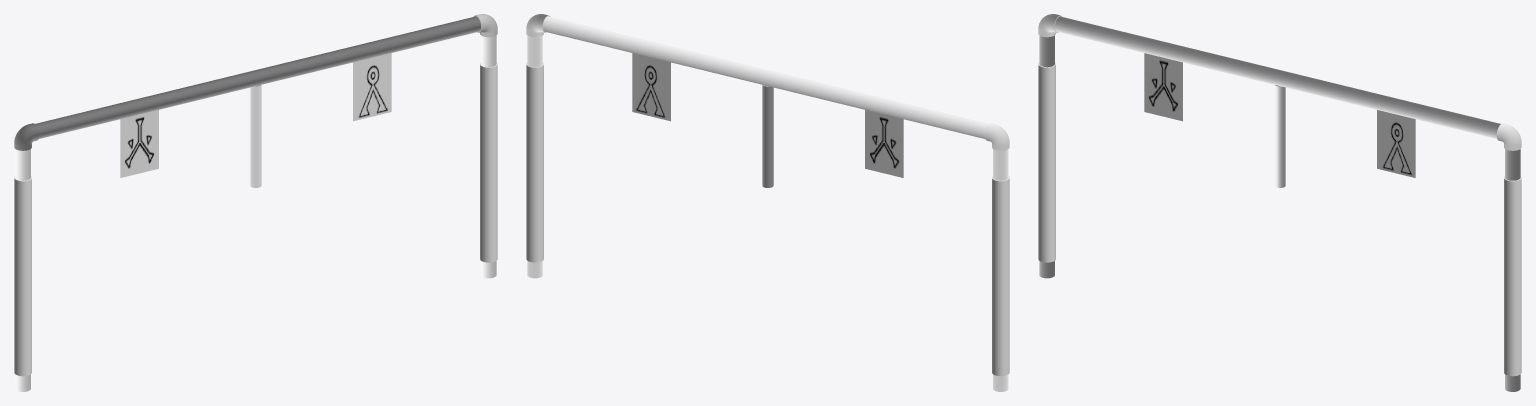
Rendered from gate.dae.
3 renders of one model, left to right at view 1: azimuth 30°, elevation 25°; view 2: azimuth 150°, elevation 25°; view 3: azimuth 330°, elevation 25°, orthographic.
Parts seen in each view (by area): view 1: horizontal_pvc, orange_wrap_left, orange_wrap_right, symbol1, symbol2, center, left, right, corner_left; view 2: horizontal_pvc, orange_wrap_left, orange_wrap_right, symbol1, symbol2, center, right, left, corner_left; view 3: horizontal_pvc, orange_wrap_right, orange_wrap_left, symbol2, symbol1, center, left, right, corner_right.
Boxes of the visible parts, x1,y1,x2,y2 form: horizontal_pvc: [35, 16, 480, 138]; orange_wrap_left: [14, 176, 31, 376]; orange_wrap_right: [480, 62, 497, 262]; symbol1: [353, 53, 391, 121]; symbol2: [120, 110, 158, 177]; center: [250, 85, 261, 187]; left: [15, 149, 30, 391]; right: [481, 35, 496, 278]; corner_left: [14, 123, 39, 150]; horizontal_pvc: [543, 16, 988, 138]; orange_wrap_left: [992, 176, 1009, 376]; orange_wrap_right: [526, 62, 543, 262]; symbol1: [632, 53, 670, 121]; symbol2: [865, 110, 903, 177]; center: [762, 85, 773, 187]; right: [527, 35, 542, 278]; left: [993, 149, 1008, 391]; corner_left: [984, 123, 1009, 150]; horizontal_pvc: [1055, 16, 1500, 138]; orange_wrap_right: [1504, 176, 1521, 376]; orange_wrap_left: [1038, 62, 1055, 262]; symbol2: [1144, 53, 1182, 121]; symbol1: [1377, 110, 1415, 177]; center: [1274, 85, 1285, 187]; left: [1039, 35, 1054, 278]; right: [1505, 149, 1520, 391]; corner_right: [1496, 123, 1521, 150].
Size of the model in its own units: 3.15 by 0.1016 by 1.64.
Materials: 5 (2 with a texture image).
